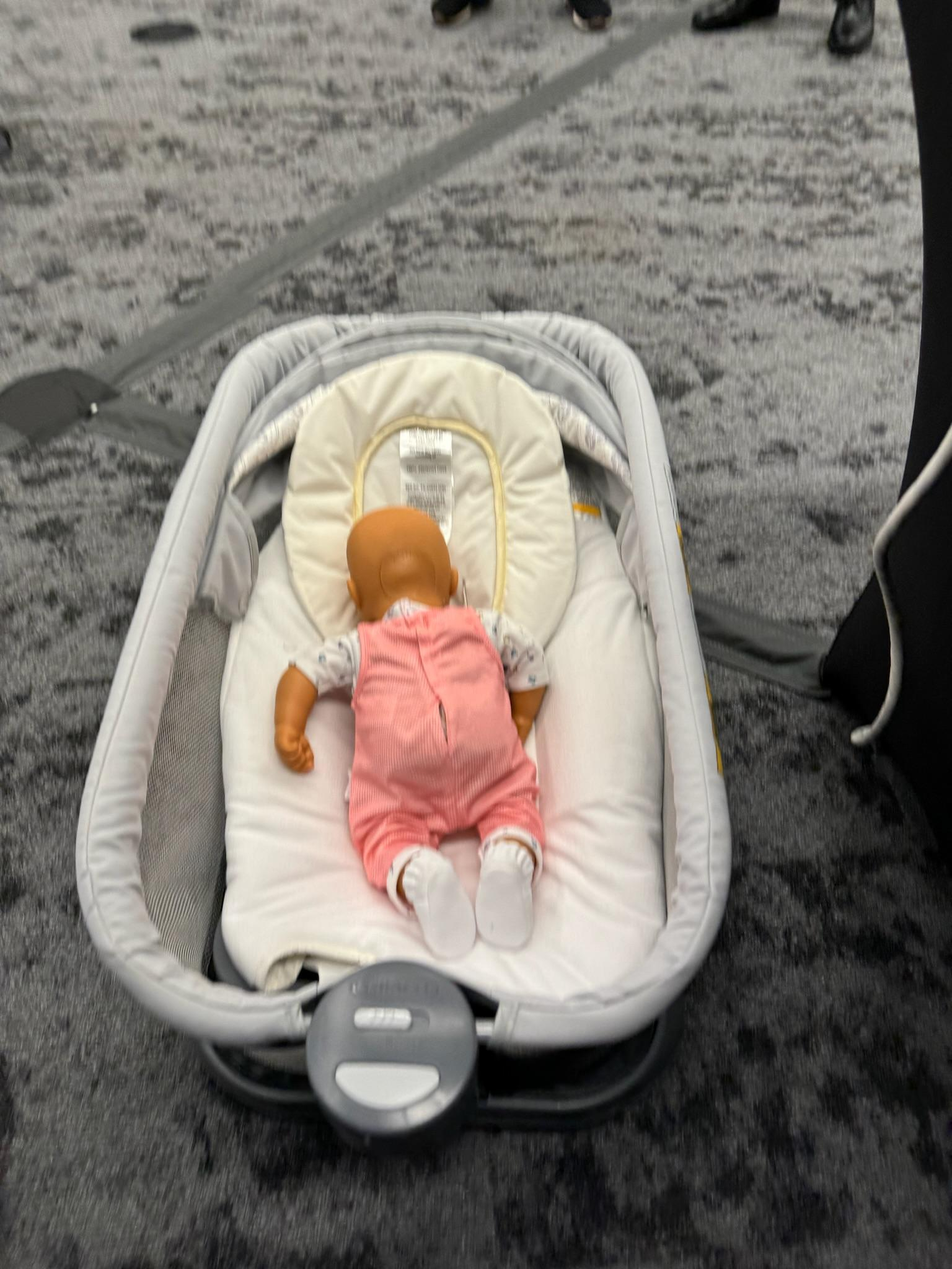baby: (276, 506, 579, 959)
